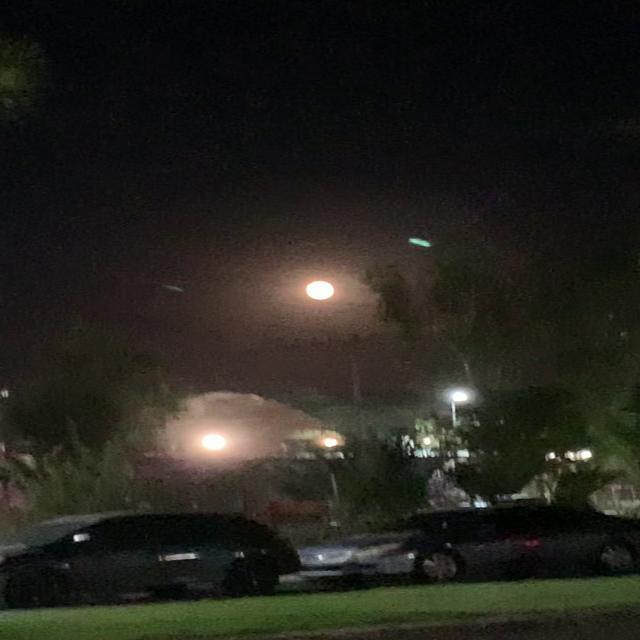moon: (297, 276, 350, 302)
